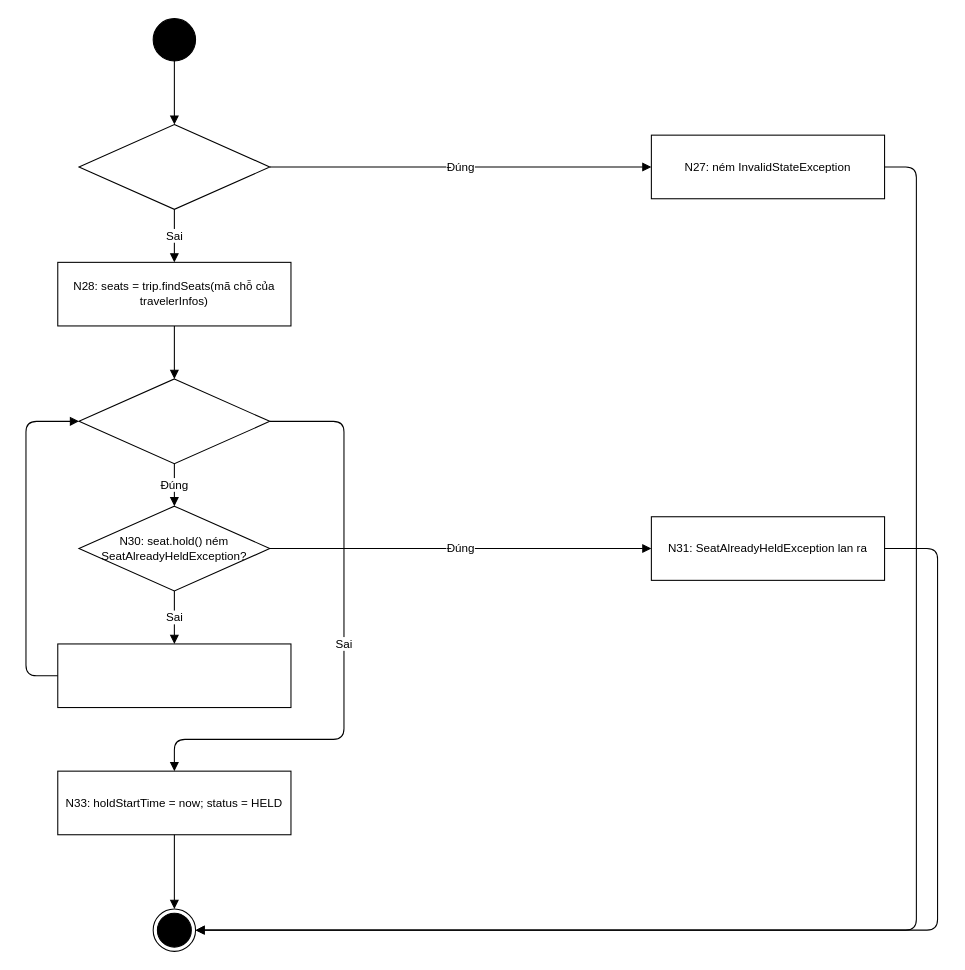
Some shapes in this 965 by 970 pixel diagram are drawn without their labels. Here are the shapes that lost their labels. From the top down, the box of each, then its label:
(78, 123, 270, 209): N26: status khác DRAFT?
(78, 378, 270, 464): N29: còn Seat chưa giữ?
(57, 643, 291, 708): N32: seat đã chuyển HELD
